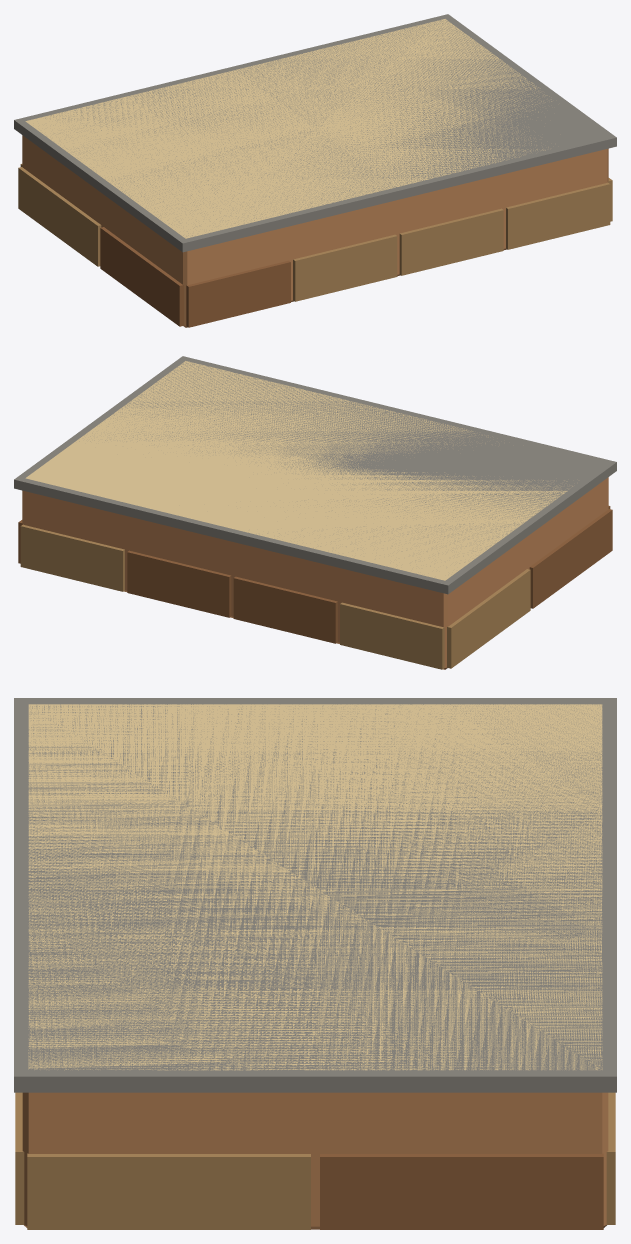
File: SM_ProvPlatform.fbx
The picture shows the model from 3 angles, top to bottom: view 1: azimuth 30°, elevation 25°; view 2: azimuth 150°, elevation 25°; view 3: azimuth 270°, elevation 25°; orthographic projection. The views are drawn at different scales.
Parts seen in each view (by area): view 1: SM_ProvPlatform; view 2: SM_ProvPlatform; view 3: SM_ProvPlatform.
Part boxes in pixels (x1,y1,x2,y2): SM_ProvPlatform: (14, 14, 616, 327); SM_ProvPlatform: (14, 356, 616, 669); SM_ProvPlatform: (14, 698, 616, 1229).
Bounding box in the file's own units: 6.12 × 4.12 × 1.2.
